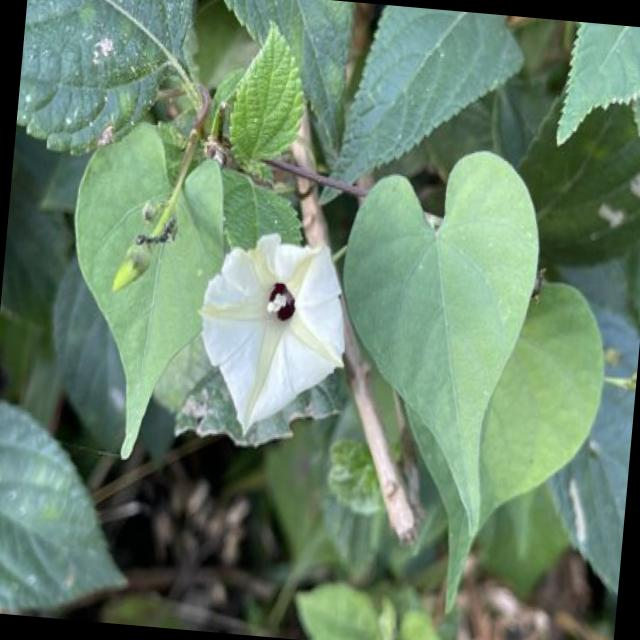ipomoea: (184, 223, 358, 448)
